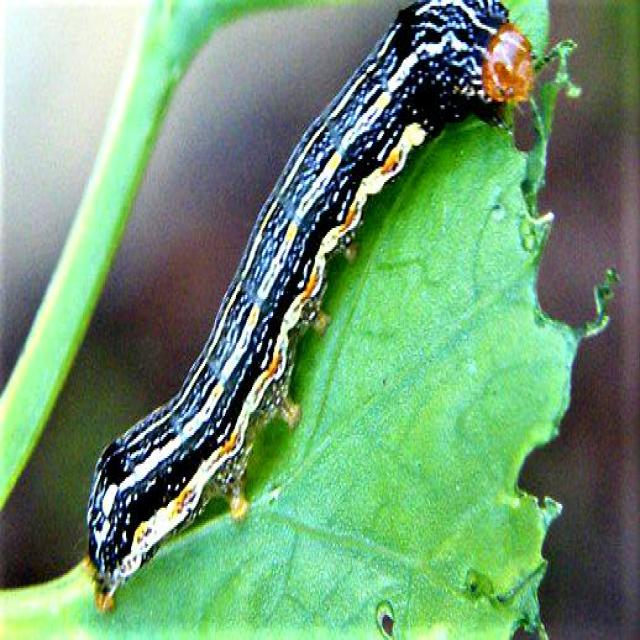Armyworm: (78, 1, 531, 633)
